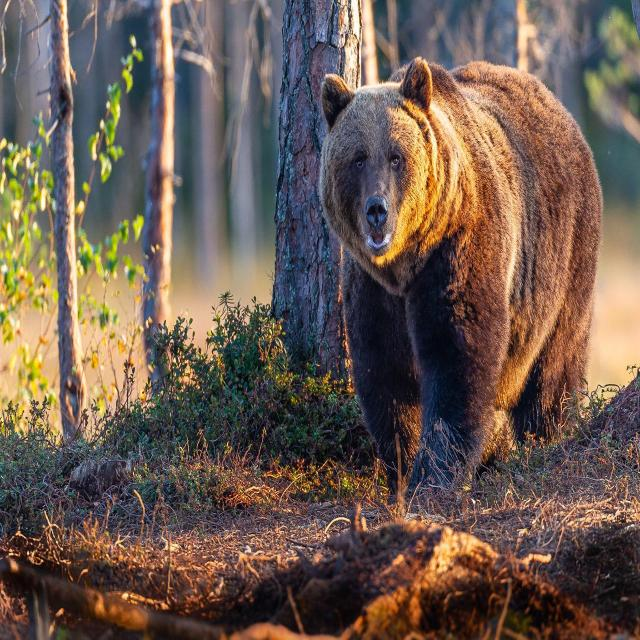Bear: (317, 58, 604, 504)
